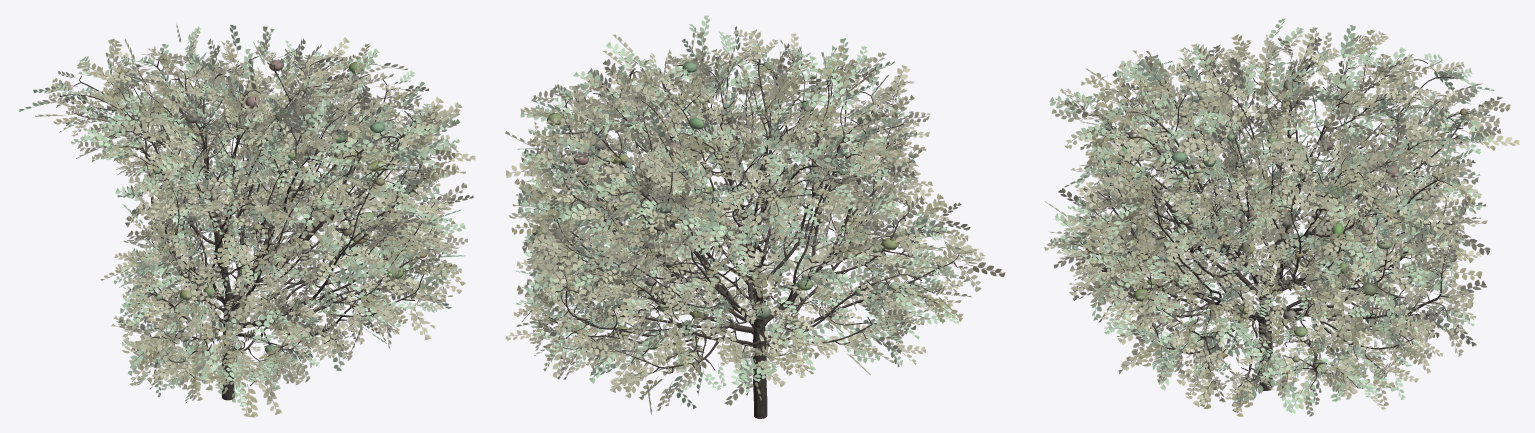
File: tree_21_camphor.glb
3 views of the same model, side by side, from view 1: azimuth 30°, elevation 25°; view 2: azimuth 150°, elevation 25°; view 3: azimuth 270°, elevation 25° (orthographic). The views are drawn at different scales.
Parts seen in each view (by area): view 1: tree_21_camphor.leaves, tree_21_camphor.trunk_branches, tree_21_camphor.foliage_volume; view 2: tree_21_camphor.leaves, tree_21_camphor.trunk_branches, tree_21_camphor.foliage_volume; view 3: tree_21_camphor.leaves, tree_21_camphor.trunk_branches, tree_21_camphor.foliage_volume.
Boxes of the visible parts, x1,y1,x2,y2 form: tree_21_camphor.leaves: [18, 24, 475, 417]; tree_21_camphor.trunk_branches: [60, 54, 436, 400]; tree_21_camphor.foliage_volume: [117, 60, 426, 355]; tree_21_camphor.leaves: [505, 15, 1005, 414]; tree_21_camphor.trunk_branches: [542, 57, 959, 418]; tree_21_camphor.foliage_volume: [532, 61, 899, 349]; tree_21_camphor.leaves: [1044, 18, 1519, 416]; tree_21_camphor.trunk_branches: [1073, 50, 1470, 390]; tree_21_camphor.foliage_volume: [1096, 80, 1466, 370].
Size of the model in its own units: 12.17 by 10.01 by 12.95.
Materials: 3 (2 with a texture image).
